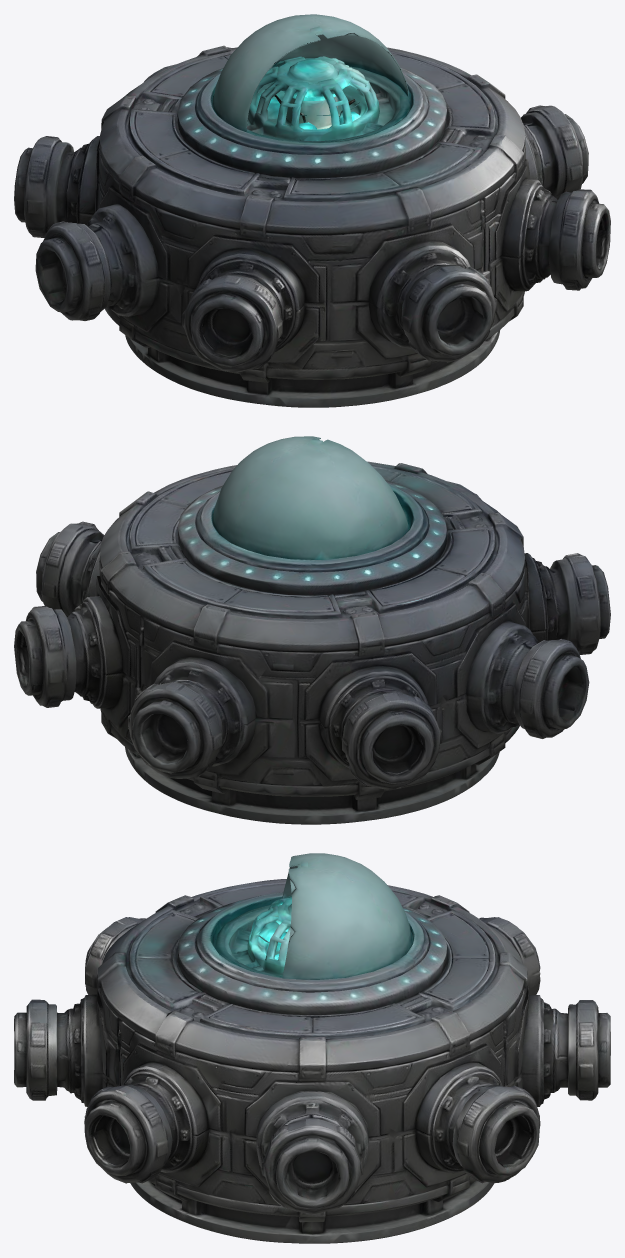
The model's file is kozepe.glb.
3 views of the same model, one above another, from view 1: azimuth 30°, elevation 25°; view 2: azimuth 150°, elevation 25°; view 3: azimuth 270°, elevation 25° (orthographic).
Visible parts, largest first — view 1: kozepe_node; view 2: kozepe_node; view 3: kozepe_node.
Boxes of the visible parts, left/top/right/bottom form: kozepe_node: left=14, top=14, right=610, bottom=407; kozepe_node: left=14, top=436, right=610, bottom=824; kozepe_node: left=14, top=853, right=610, bottom=1243.
Bounding box in the file's own units: 0.9797 × 0.5445 × 0.9764.
Materials: 1 (1 with a texture image).
